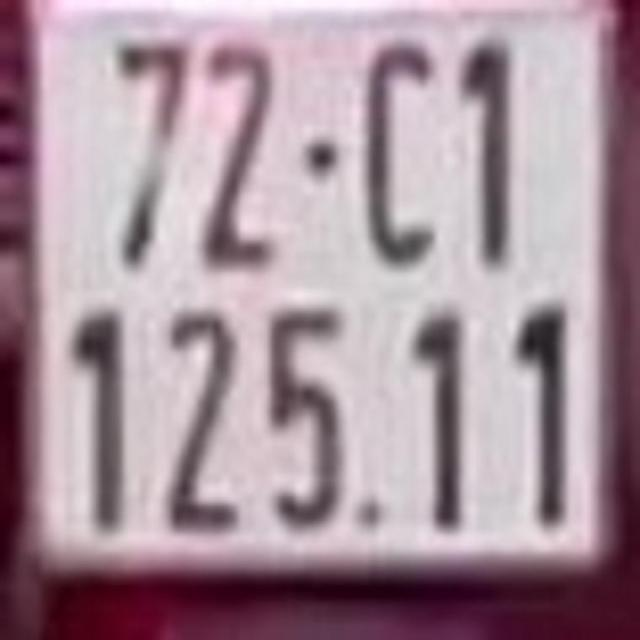1: (450, 24, 529, 269), (511, 293, 584, 542), (402, 294, 477, 534), (64, 296, 136, 536)
2: (158, 297, 244, 537), (196, 34, 275, 271)
5: (264, 299, 340, 527)
7: (109, 32, 192, 263)
C: (360, 34, 442, 265)
